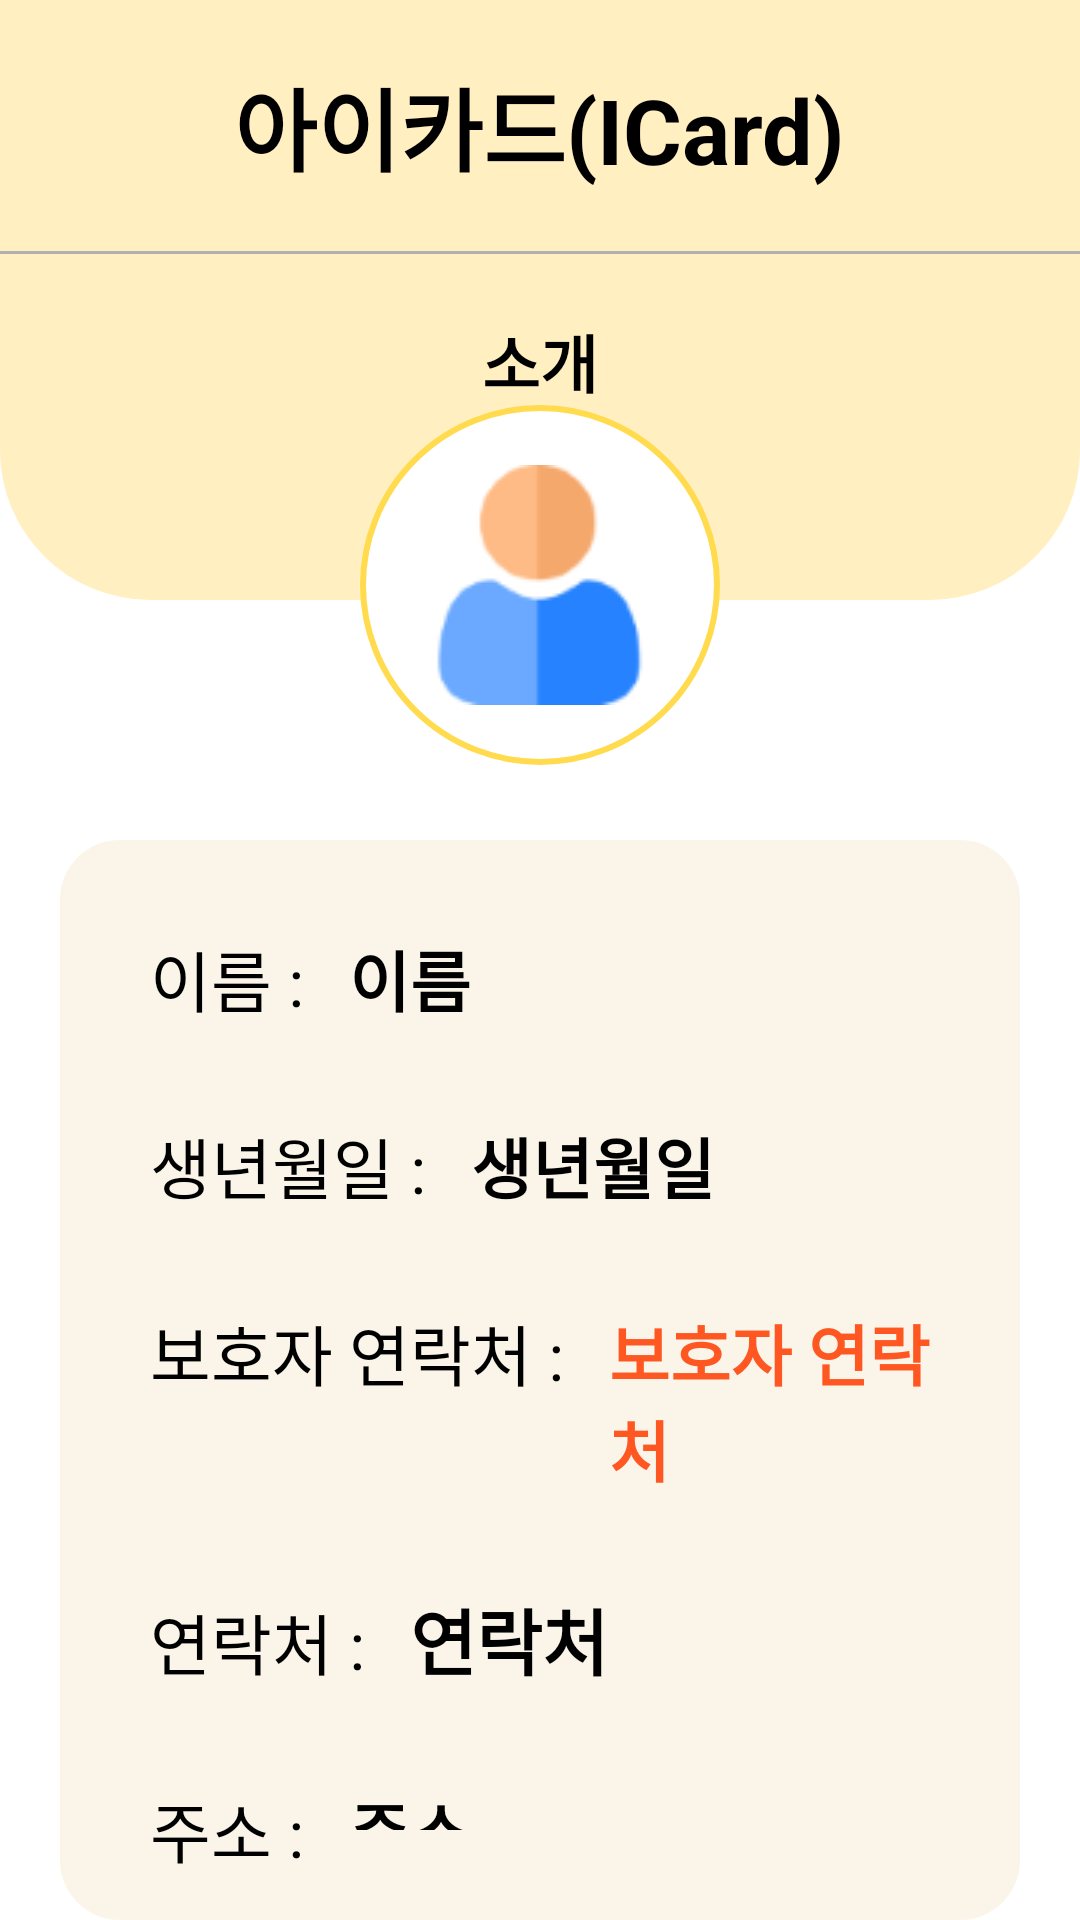

Named icons in this screenshot (1080*1920) and their centers, (x=x, y=y):
user: (x=540, y=585)
